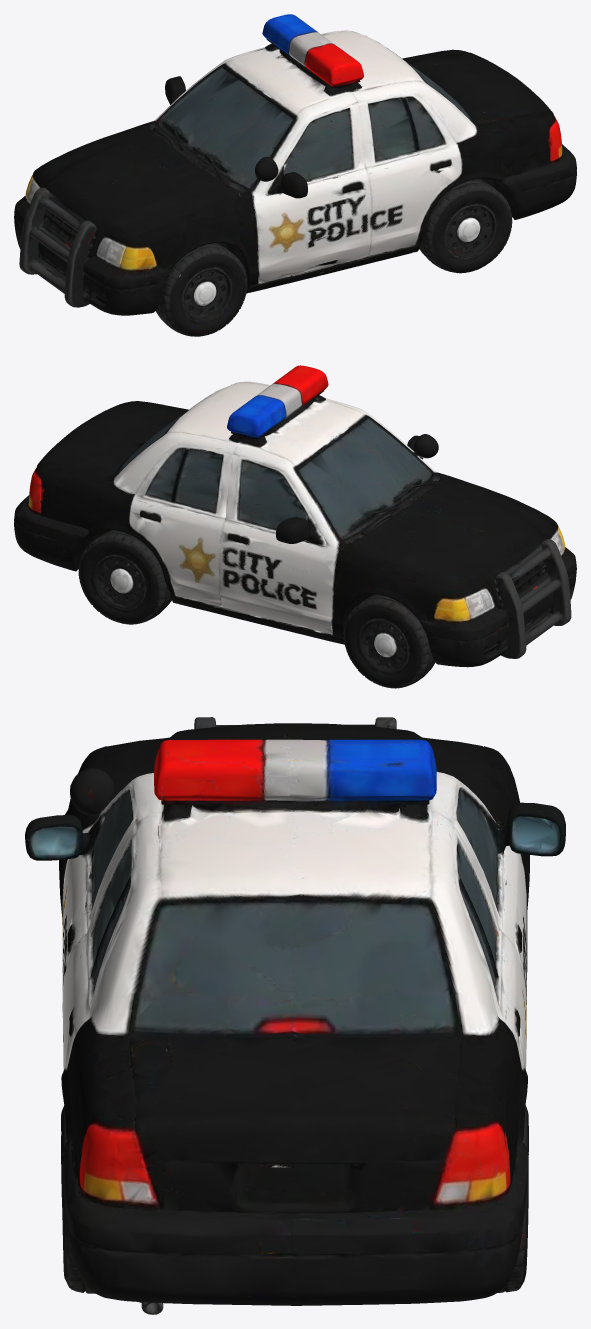
Rendered from squad_car.glb.
The picture shows the model from 3 angles, top to bottom: view 1: azimuth 30°, elevation 25°; view 2: azimuth 150°, elevation 25°; view 3: azimuth 270°, elevation 25°; orthographic projection. The views are drawn at different scales.
Bounding box in the file's own units: 1.9 × 0.8071 × 0.9072.
Materials: 1 (1 with a texture image).
